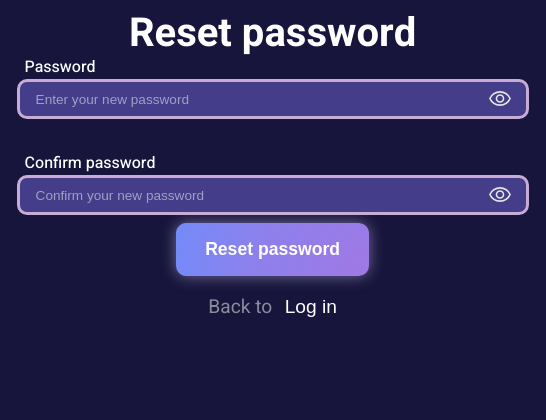
it: ResetPasswordForm › validates missing token
In the password field with placeholder "Enter your new password": (273, 99) [17, 79, 529, 119], type "Password1"
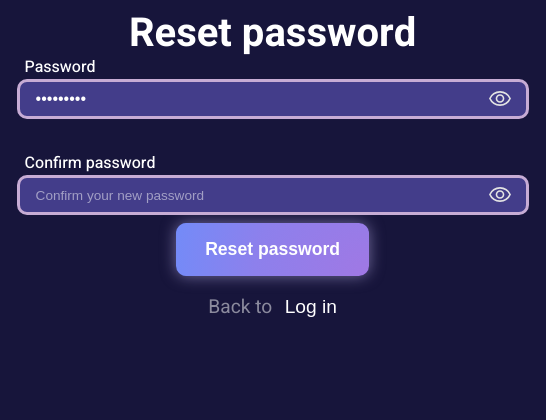
In the password field with placeholder "Confirm your new password": (273, 195) [17, 175, 529, 215], type "Password1"
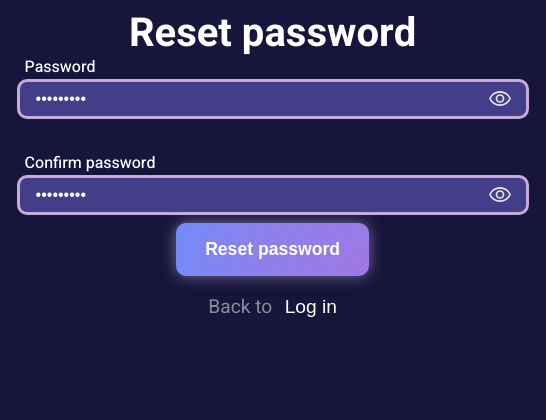
Click the button "Reset password": (273, 249) [176, 223, 369, 276]
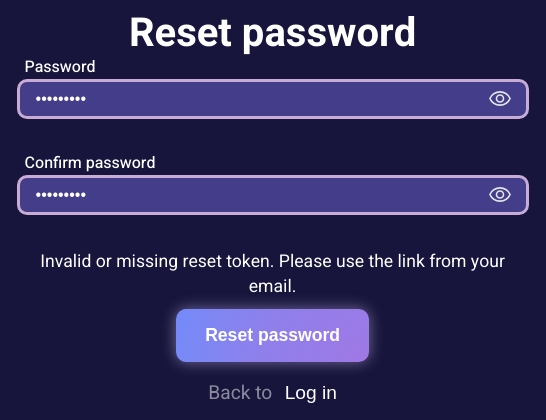
Result: the text "Invalid or missing reset token" is shown at [40, 249, 505, 299]
